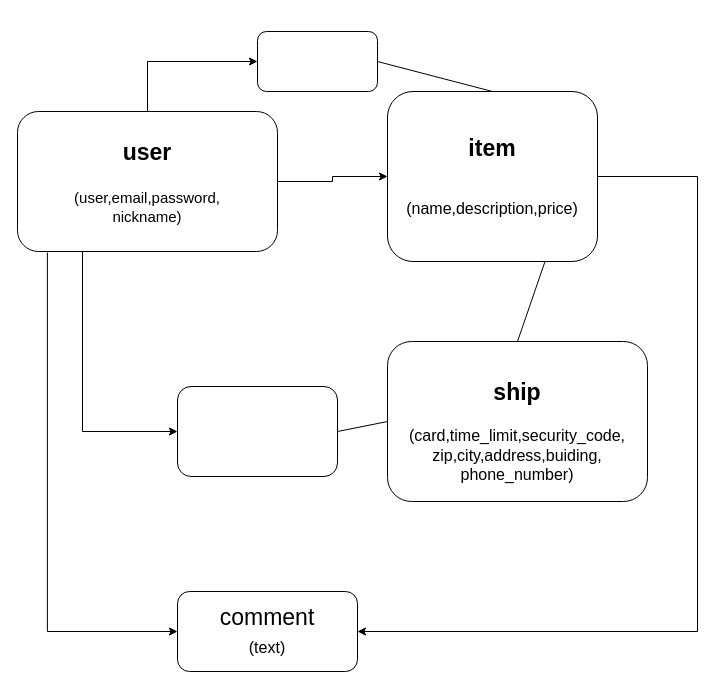
This 723x689 diagram has some shape labels left out. The shapes that lost their labels are listed below. From the top down, each one's centre as x and y in pixels, then its label:
the point at 317,61: history
the point at 257,431: order
